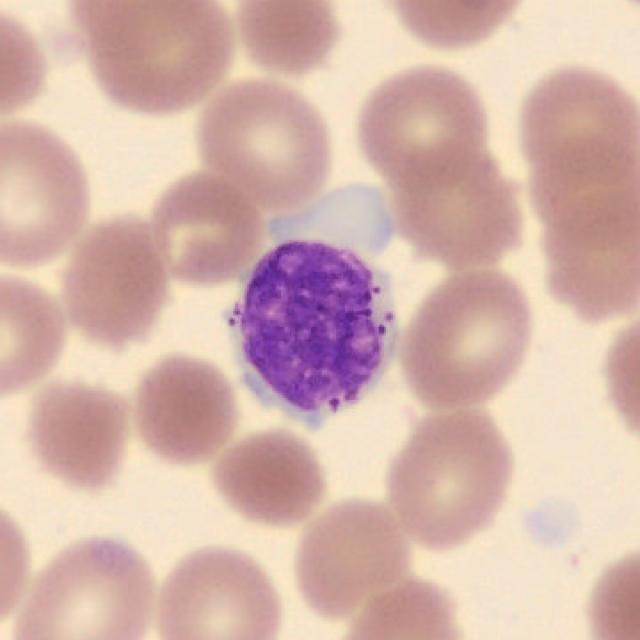Linfocito: (228, 185, 398, 434)
